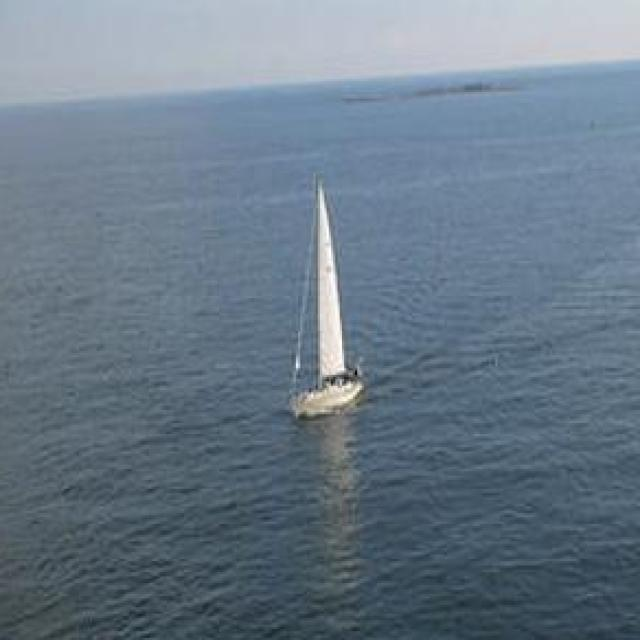sailboat: (286, 155, 366, 420)
